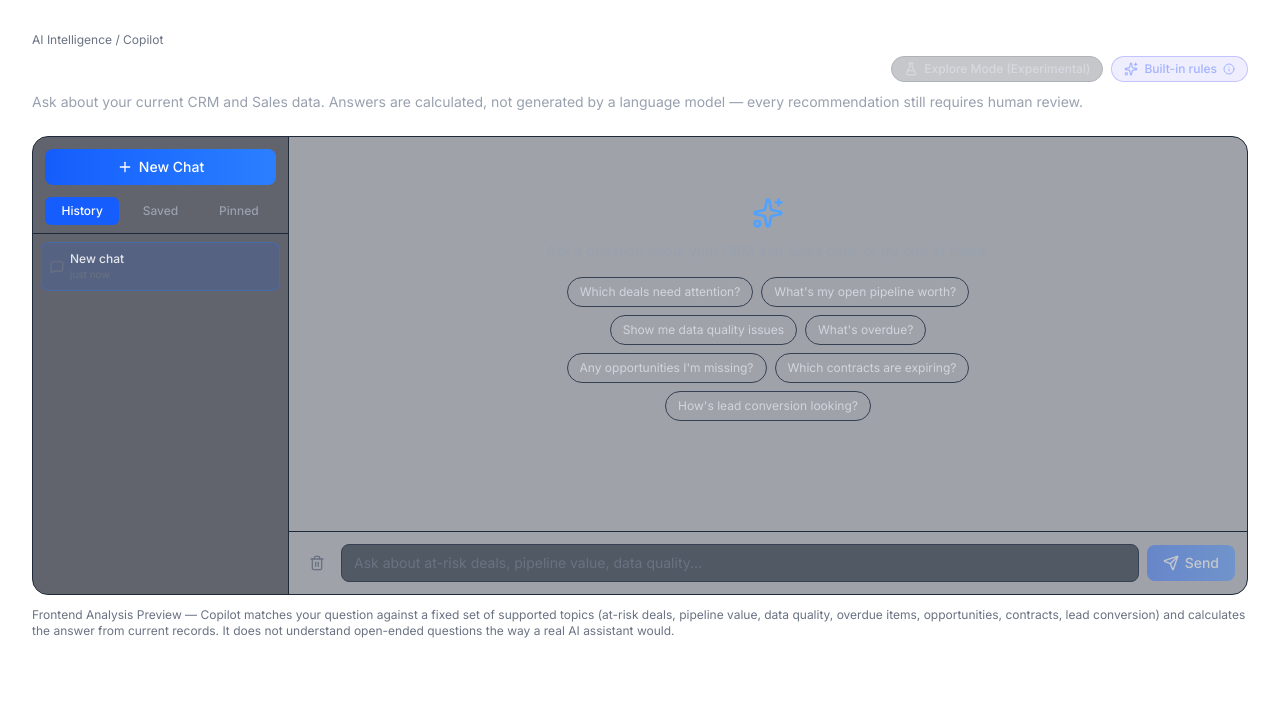
Scenario: AiCopilot — chat route rendering and behavior › an answer with evidence opens the evidence drawer
Click the button "Which deals need attention?" at point(660, 292), box [567, 277, 753, 307]
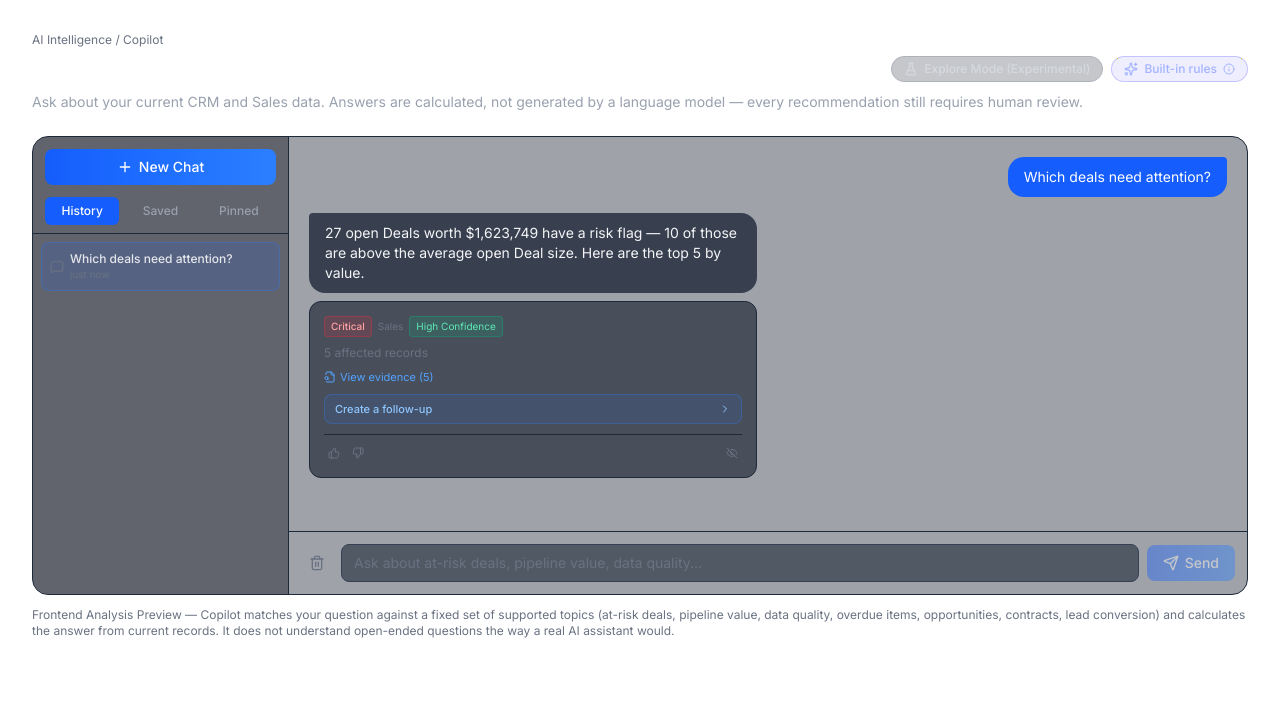
Click the button "View evidence (5)" at point(379, 377), box [324, 369, 434, 386]
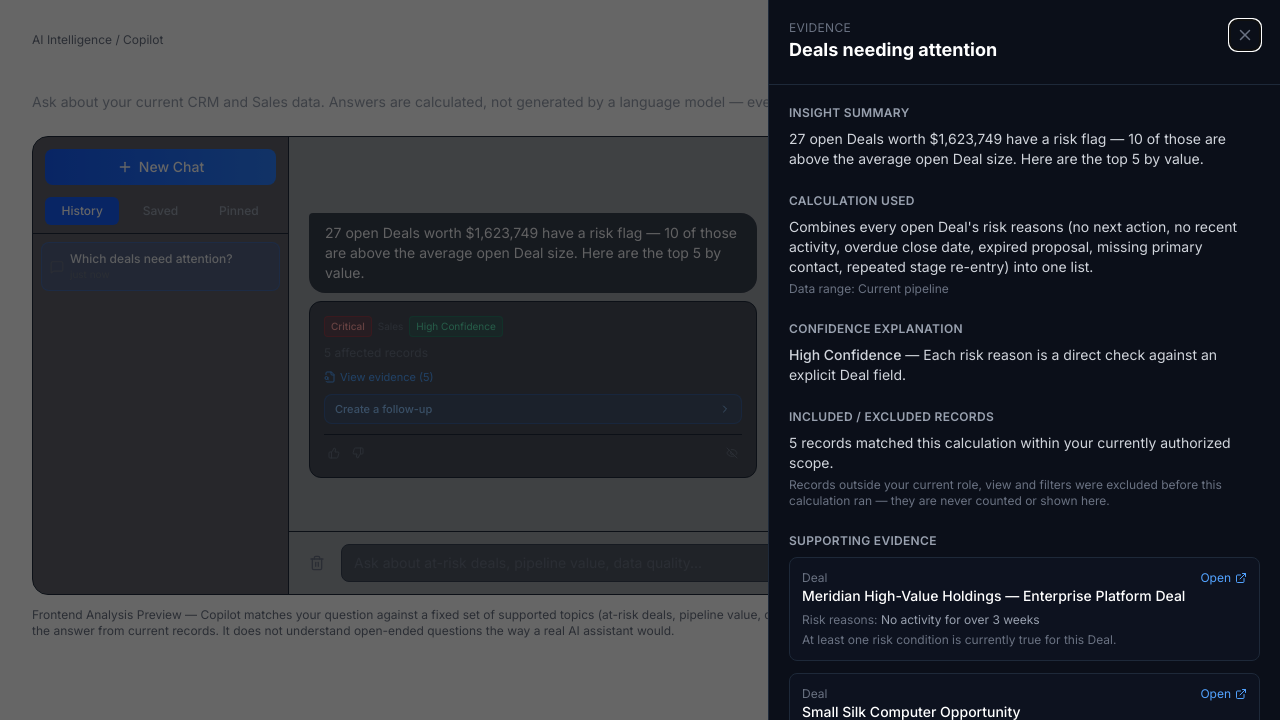
Now the dialog is shown, box [768, 0, 1279, 719]
Now the heading "Calculation used" is shown, box [789, 193, 915, 208]
